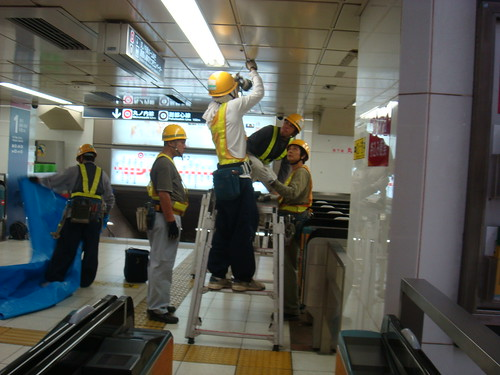person hardhat: (197, 58, 260, 293), (28, 135, 118, 282), (139, 120, 190, 337), (261, 134, 313, 322), (238, 105, 299, 196)
